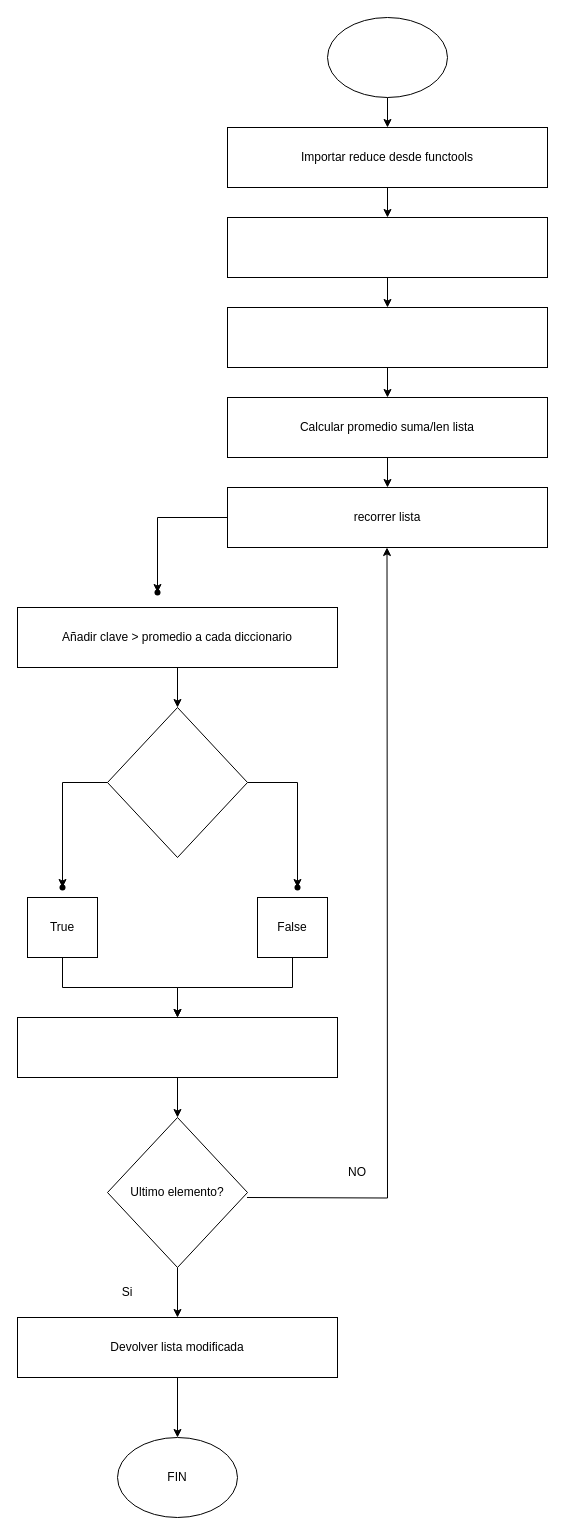
Some shapes in this 565 by 1535 pixel diagram are drawn without their labels. The box of each missing label's shape, as (x1, y1, x2, y2) in pixels:
Actualizar diccionario: (16, 1016, 338, 1078)
Calcular suma total de edades con reduce: (226, 306, 548, 368)
edad > promedio: (106, 706, 248, 858)
Inicio: (326, 16, 448, 98)
Obtener lista de diccionarios: (226, 216, 548, 278)
